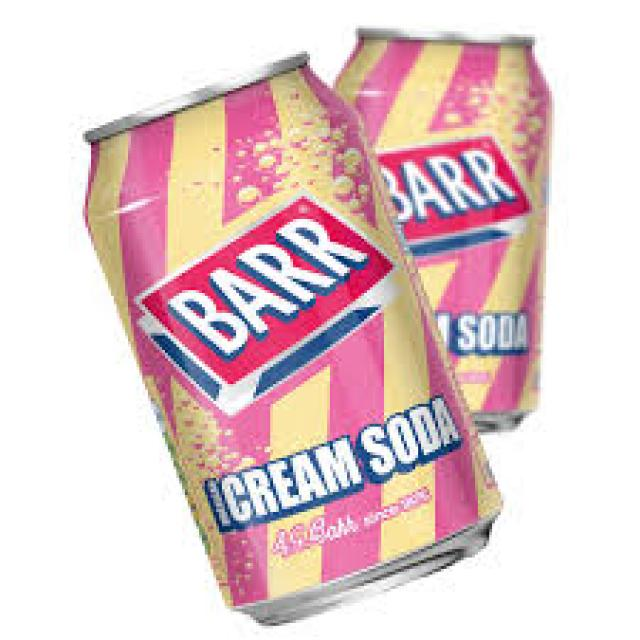Cans: (63, 43, 506, 634)
